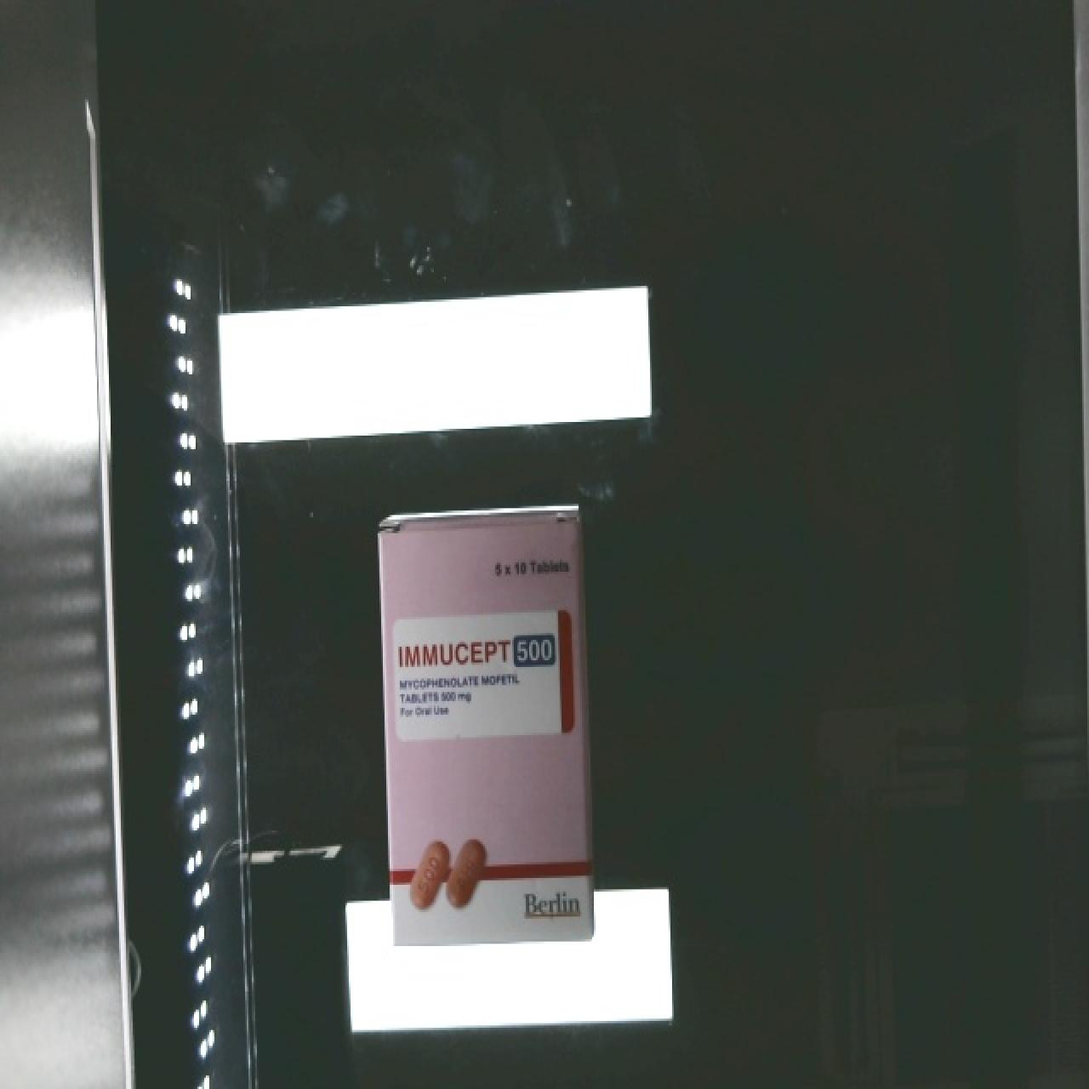medicine_label_obb: (394, 615, 566, 682)
